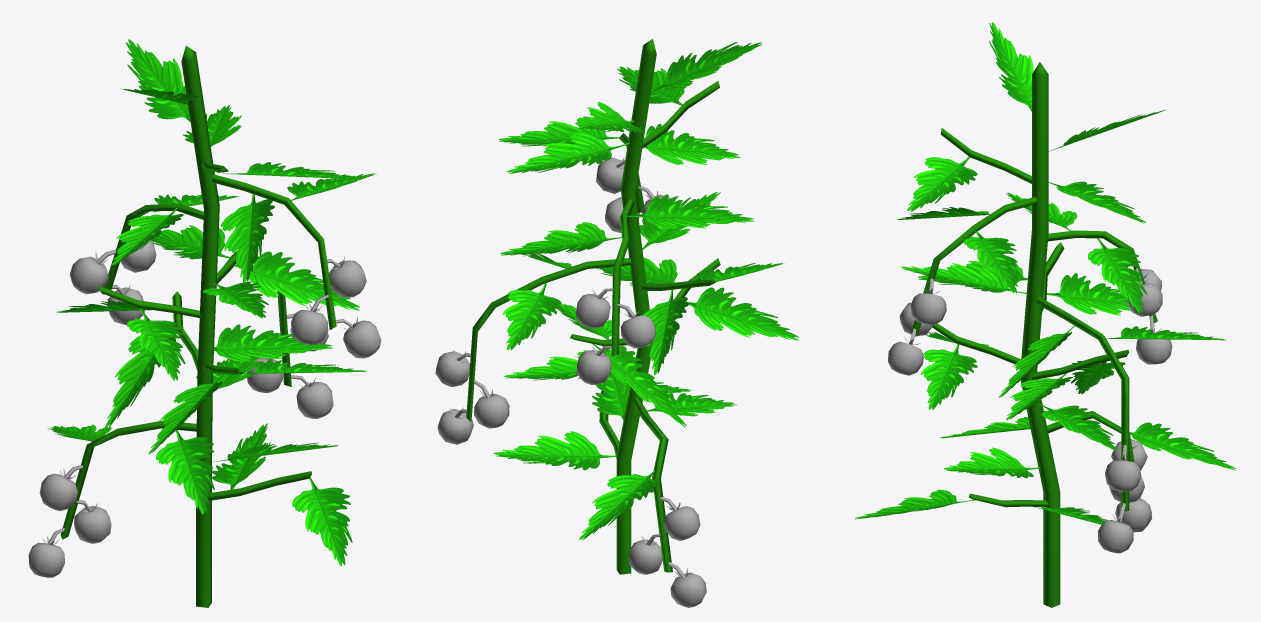
Rendered from Tomatoes Stage 2.fbx.
3 views of the same model, side by side, from view 1: azimuth 30°, elevation 25°; view 2: azimuth 150°, elevation 25°; view 3: azimuth 270°, elevation 25° (orthographic). The views are drawn at different scales.
Parts seen in each view (by area): view 1: Tomato_Plant_Body_Full_Grown, polySurface264, polySurface263, polySurface270, polySurface279, polySurface278, polySurface268, polySurface273, polySurface277, polySurface266, polySurface262, polySurface274 (+21 smaller); view 2: Tomato_Plant_Body_Full_Grown, polySurface274, polySurface262, polySurface266, polySurface280, polySurface271, polySurface265, polySurface268, polySurface277, polySurface281, polySurface267, polySurface272 (+20 smaller); view 3: Tomato_Plant_Body_Full_Grown, polySurface267, polySurface276, polySurface275, polySurface281, polySurface272, polySurface271, polySurface269, polySurface284, polySurface282, polySurface283, polySurface280 (+16 smaller).
Part boxes in pixels (x1,y1,x2,y2): Tomato_Plant_Body_Full_Grown: (60,45,336,607); polySurface264: (234,251,359,310); polySurface263: (292,477,352,566); polySurface270: (156,429,214,514); polySurface279: (126,39,190,121); polySurface278: (198,324,332,362); polySurface268: (221,194,274,283); polySurface273: (127,308,185,380); polySurface277: (105,335,175,427); polySurface266: (111,208,183,265); polySurface262: (212,423,270,489); polySurface274: (148,374,223,453); Tomato_Plant_Body_Full_Grown: (466,39,720,574); polySurface274: (685,287,798,340); polySurface262: (494,431,615,470); polySurface266: (626,194,754,229); polySurface280: (507,132,629,173); polySurface271: (579,470,658,539); polySurface265: (502,283,561,350); polySurface268: (644,123,740,164); polySurface277: (592,343,686,427); polySurface281: (651,42,762,92); polySurface267: (500,222,621,256); polySurface272: (643,289,688,375); Tomato_Plant_Body_Full_Grown: (911,62,1157,607); polySurface267: (1088,238,1147,313); polySurface276: (907,156,977,211); polySurface275: (920,344,977,409); polySurface281: (989,22,1033,111); polySurface272: (1046,273,1130,315); polySurface271: (1129,422,1235,470); polySurface269: (964,231,1021,293); polySurface284: (943,447,1040,478); polySurface282: (901,263,1027,294); polySurface283: (1037,403,1117,450); polySurface280: (1044,180,1145,223).
Size of the model in its own units: 0.7791 by 1.44 by 0.9744.
3 materials, 1 textured.
